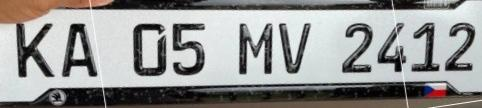0: (128, 16, 170, 80)
1: (411, 20, 442, 77)
2: (444, 16, 481, 77), (341, 19, 376, 77)
4: (378, 22, 410, 77)
5: (169, 14, 211, 81)
A: (60, 18, 103, 83)
K: (10, 16, 57, 81)
V: (278, 16, 313, 79)
m: (234, 15, 276, 82)
